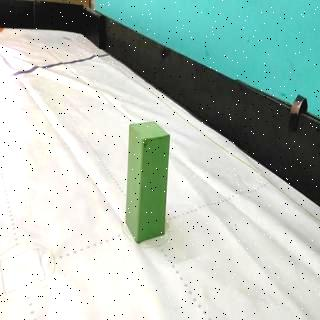greenbox: (126, 120, 172, 243)
